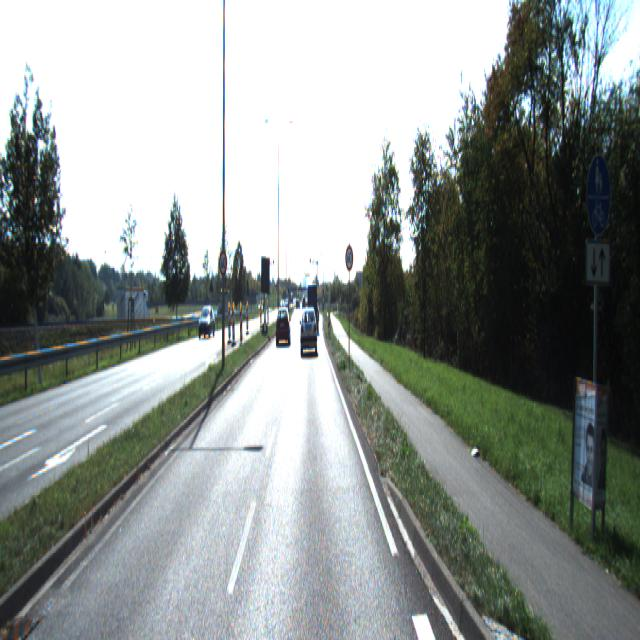Car: (300, 311, 317, 355), (275, 308, 291, 347), (198, 307, 215, 340), (307, 286, 318, 335)
